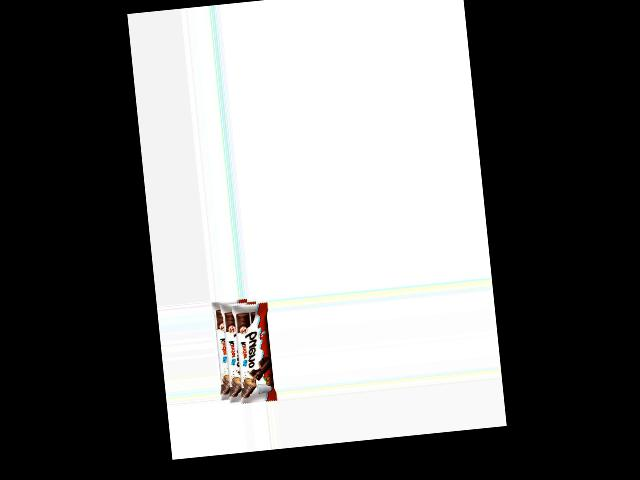chocolate: (211, 297, 277, 403)
